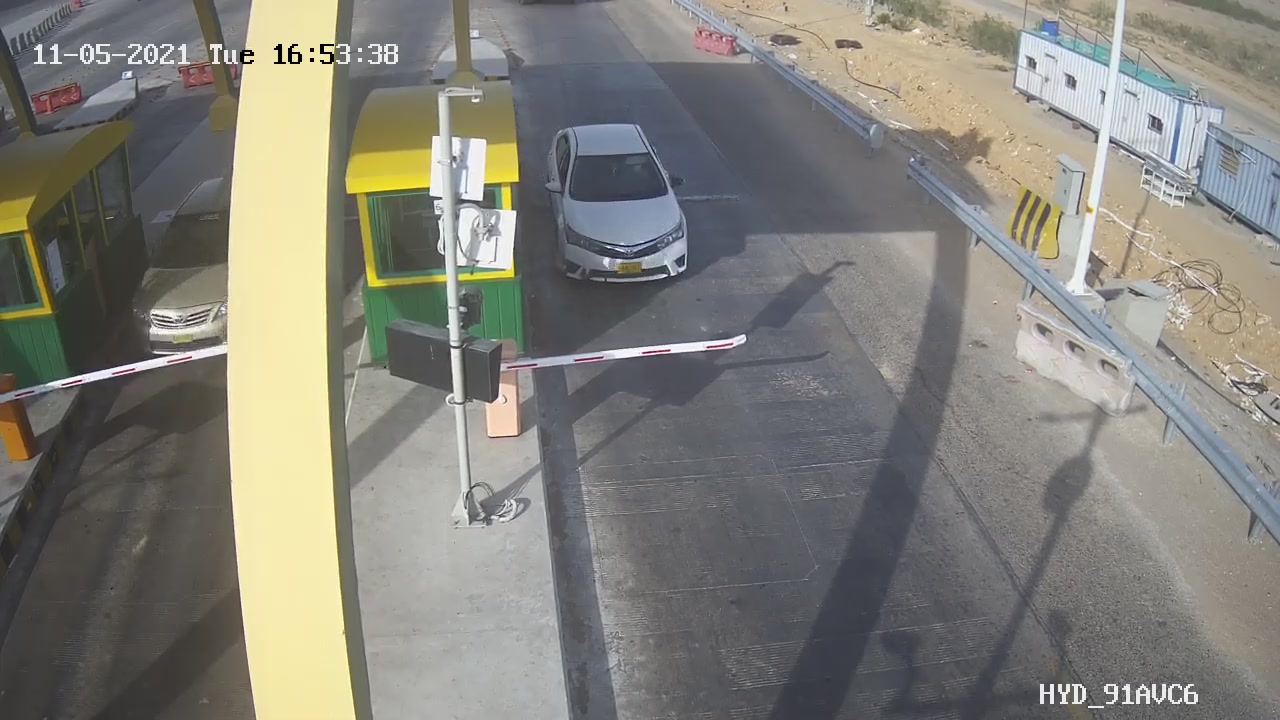F1: (531, 108, 712, 311)
